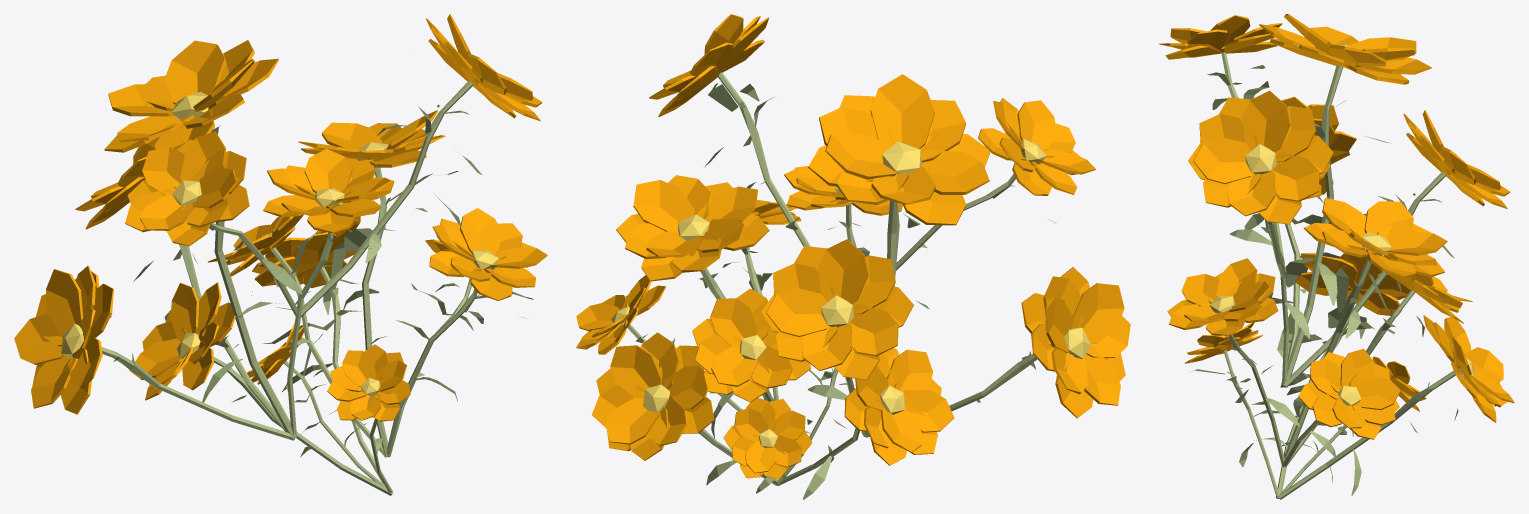
File: Unity2Skfb.gltf
3 views of the same model, side by side, from view 1: azimuth 30°, elevation 25°; view 2: azimuth 150°, elevation 25°; view 3: azimuth 270°, elevation 25° (orthographic). The views are drawn at different scales.
Visible parts, largest first — view 1: node_calendula (12)_-1528842, node_calendula (9)_-1528816, node_calendula (13)_-1528850, node_calendula (11)_-1528832, node_calendula (4)_-1528786, node_calendula (7)_-1528810, node_calendula (14)_-1528858, node_calendula_-1528750, node_calendula (6)_-1528802, node_calendula (3)_-1528776, node_calendula (10)_-1528824, node_calendula (2)_-1528770 (+2 smaller); view 2: node_calendula (12)_-1528842, node_calendula (10)_-1528824, node_calendula (9)_-1528816, node_calendula_-1528750, node_calendula (3)_-1528776, node_calendula (4)_-1528786, node_calendula (2)_-1528770, node_calendula (13)_-1528850, node_calendula (14)_-1528858, node_calendula (5)_-1528792, node_calendula (1)_-1528762, node_calendula (11)_-1528832 (+1 smaller); view 3: node_calendula (14)_-1528858, node_calendula (12)_-1528842, node_calendula_-1528750, node_calendula (1)_-1528762, node_calendula (7)_-1528810, node_calendula (3)_-1528776, node_calendula (10)_-1528824, node_calendula (4)_-1528786, node_calendula (13)_-1528850, node_calendula (9)_-1528816, node_calendula (2)_-1528770, node_calendula (6)_-1528802 (+2 smaller).
Part boxes in pixels (<box>): node_calendula (12)_-1528842: <box>104,40,297,438</box>; node_calendula (9)_-1528816: <box>14,265,294,440</box>; node_calendula (13)_-1528850: <box>125,131,302,316</box>; node_calendula (11)_-1528832: <box>263,148,394,437</box>; node_calendula (4)_-1528786: <box>130,282,393,495</box>; node_calendula (7)_-1528810: <box>386,208,547,457</box>; node_calendula (14)_-1528858: <box>301,14,542,317</box>; node_calendula_-1528750: <box>298,110,458,456</box>; node_calendula (6)_-1528802: <box>327,344,410,492</box>; node_calendula (3)_-1528776: <box>252,216,392,490</box>; node_calendula (10)_-1528824: <box>75,136,285,431</box>; node_calendula (2)_-1528770: <box>208,214,386,457</box>; node_calendula (12)_-1528842: <box>808,74,990,436</box>; node_calendula (10)_-1528824: <box>761,239,913,436</box>; node_calendula (9)_-1528816: <box>865,267,1130,437</box>; node_calendula_-1528750: <box>616,175,769,417</box>; node_calendula (3)_-1528776: <box>592,332,778,486</box>; node_calendula (4)_-1528786: <box>779,347,954,499</box>; node_calendula (2)_-1528770: <box>692,288,811,402</box>; node_calendula (13)_-1528850: <box>896,98,1095,270</box>; node_calendula (14)_-1528858: <box>649,14,810,246</box>; node_calendula (5)_-1528792: <box>723,398,812,493</box>; node_calendula (1)_-1528762: <box>576,275,742,438</box>; node_calendula (11)_-1528832: <box>784,166,902,256</box>; node_calendula (14)_-1528858: <box>1188,90,1333,278</box>; node_calendula (12)_-1528842: <box>1259,14,1431,385</box>; node_calendula_-1528750: <box>1261,198,1447,466</box>; node_calendula (1)_-1528762: <box>1283,348,1400,466</box>; node_calendula (7)_-1528810: <box>1167,258,1299,466</box>; node_calendula (3)_-1528776: <box>1278,315,1514,499</box>; node_calendula (10)_-1528824: <box>1285,110,1509,387</box>; node_calendula (4)_-1528786: <box>1248,253,1410,498</box>; node_calendula (13)_-1528850: <box>1159,15,1323,272</box>; node_calendula (9)_-1528816: <box>1244,96,1356,387</box>; node_calendula (2)_-1528770: <box>1286,271,1472,466</box>; node_calendula (6)_-1528802: <box>1184,322,1286,498</box>.
Bounding box in the file's own units: 3.28 × 2.81 × 2.09.
